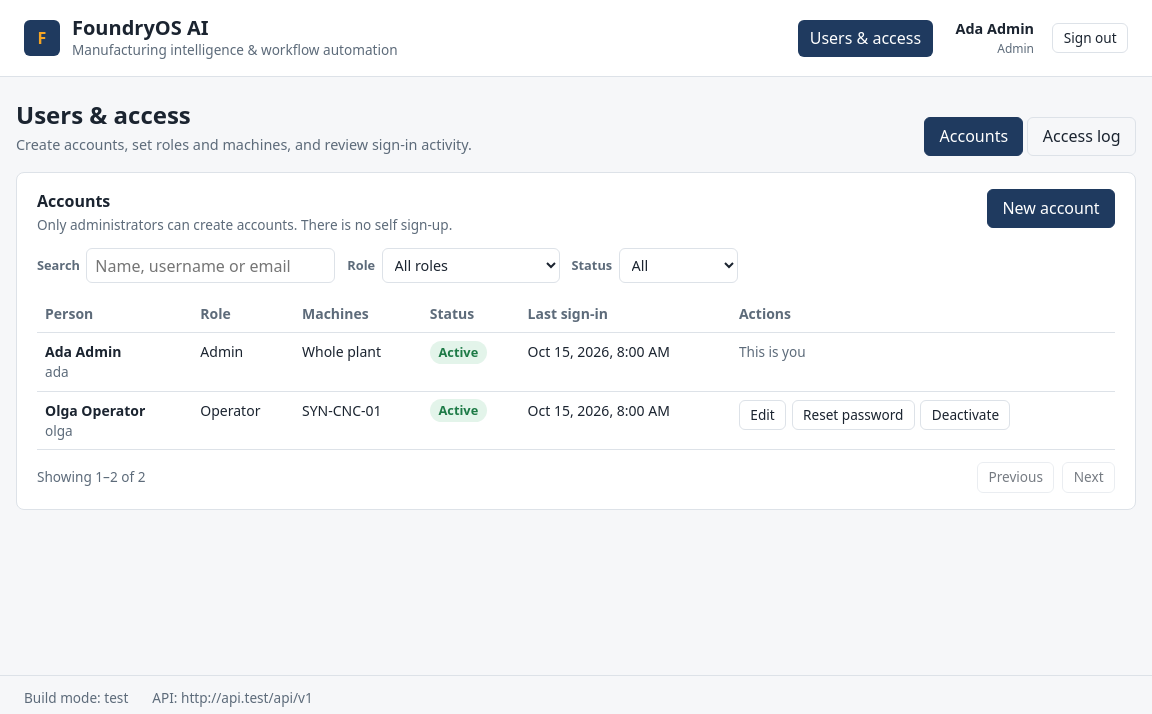
AdminPage › creates an account and shows its one-time password once
The width and height of the screenshot is (1152, 714).
expect the table named "Accounts" is shown: met, box [37,295,1115,450]
Click the button "New account".
click(1051, 208)  # box [987,189,1115,228]
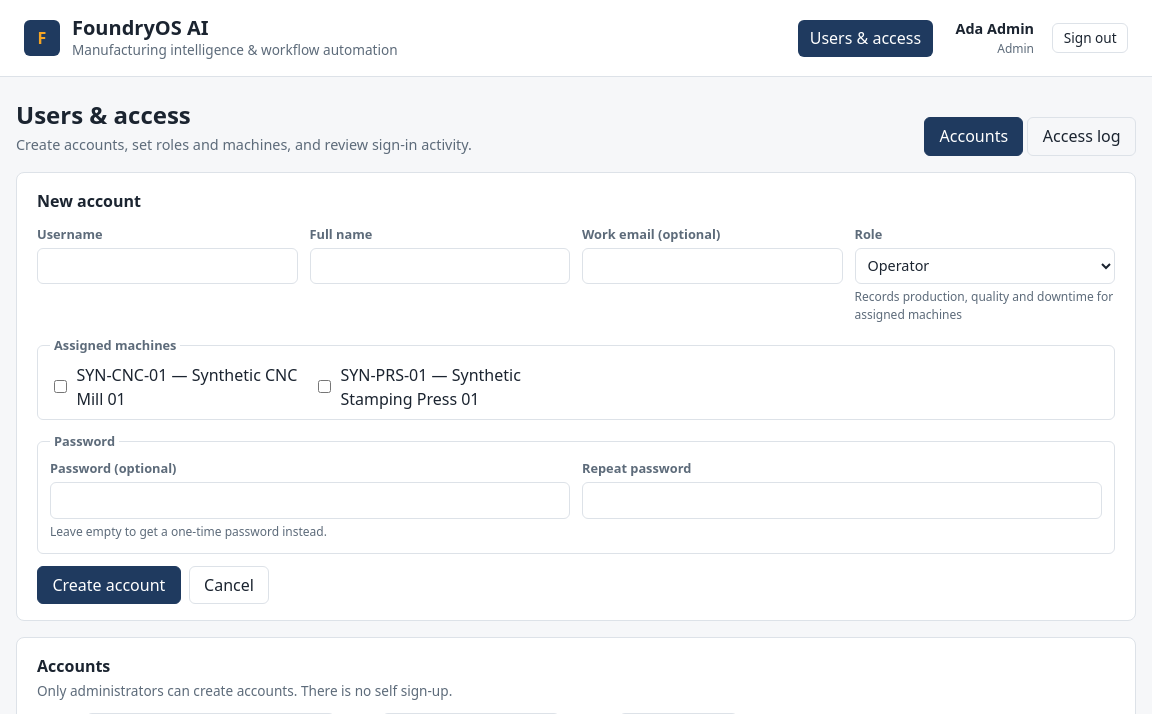
Click the button "Create account".
click(109, 585)  # box [37,566,181,604]
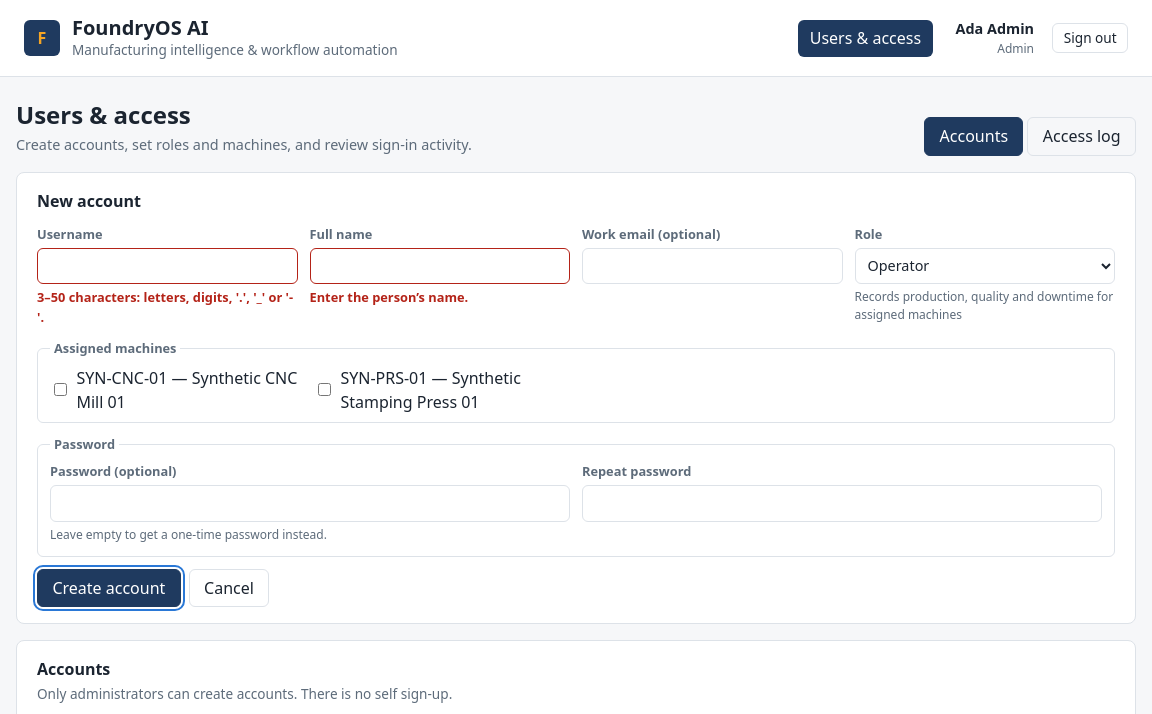
expect the text "3–50 characters: letters, digits, '.', '_' or '-'." is shown: met, box [37,288,298,327]
Type "otto" into the field labelled "Username".
click(167, 266); type("otto")  # box [37,248,298,284]
Type "Otto Operator" into the field labelled "Full name".
click(440, 266); type("Otto Operator")  # box [310,248,570,284]
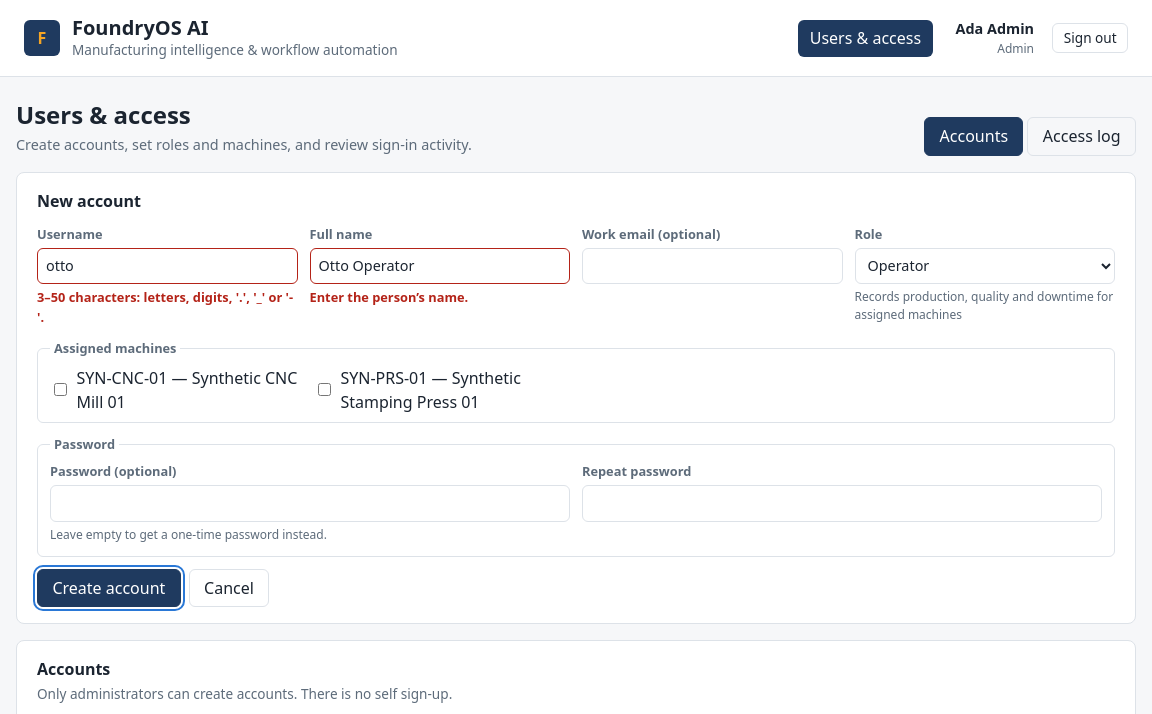
Click the checkbox labelled "SYN-PRS-01 — Synthetic Stamping Press 01".
click(324, 390)  # box [318,383,331,396]
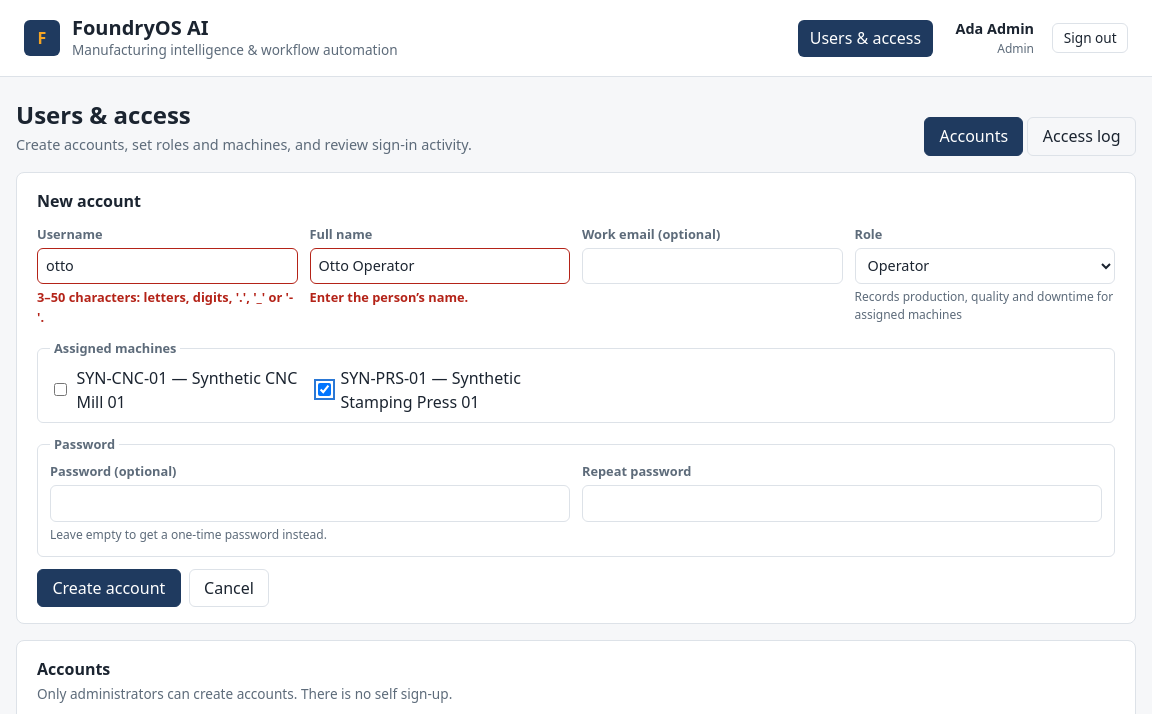
Click the button "Create account".
click(109, 588)  # box [37,569,181,607]
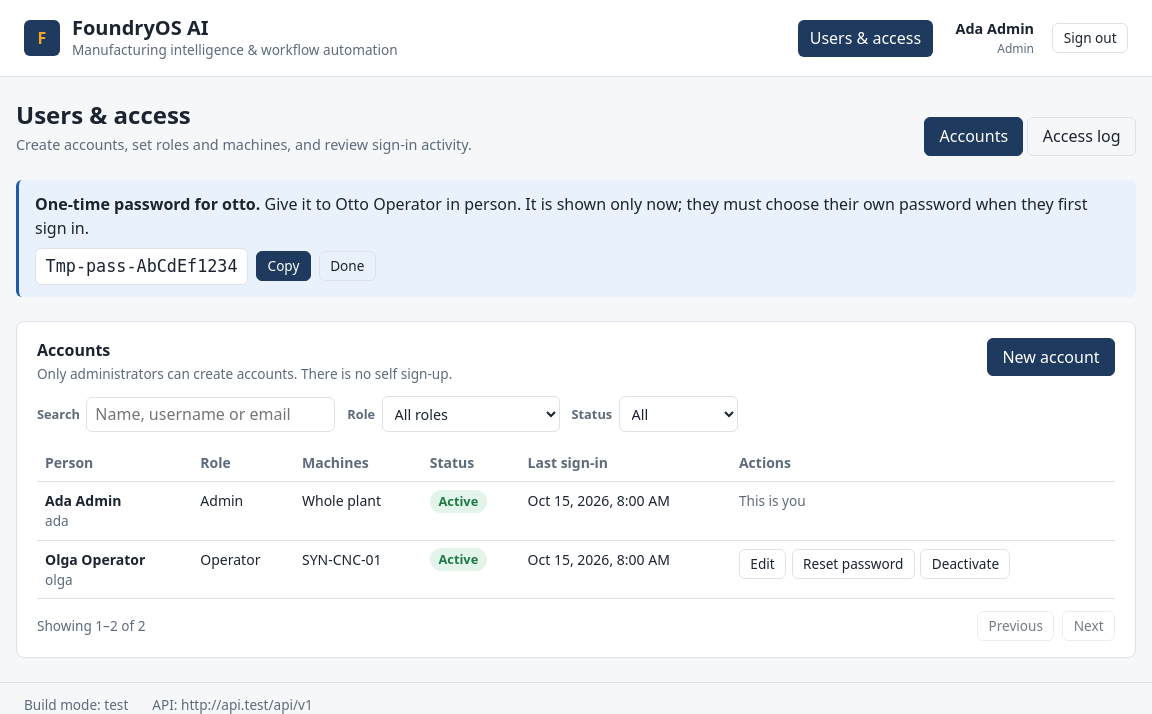
expect the message "One-time password" shows "Tmp-pass-AbCdEf1234": met, box [46,256,238,276]
expect the message "One-time password" shows "shown only now": met, box [35,193,1088,239]
Click the button "Done".
click(347, 266)  # box [319,251,376,281]
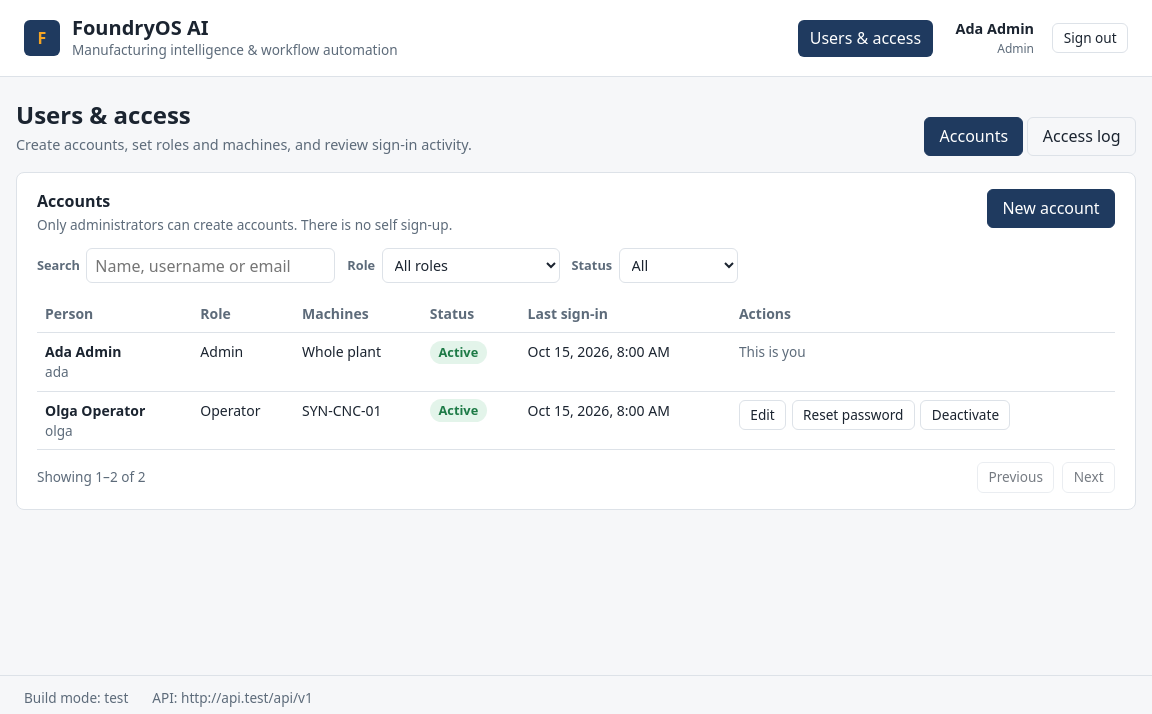
expect the text "Tmp-pass-AbCdEf1234" is gone: met
